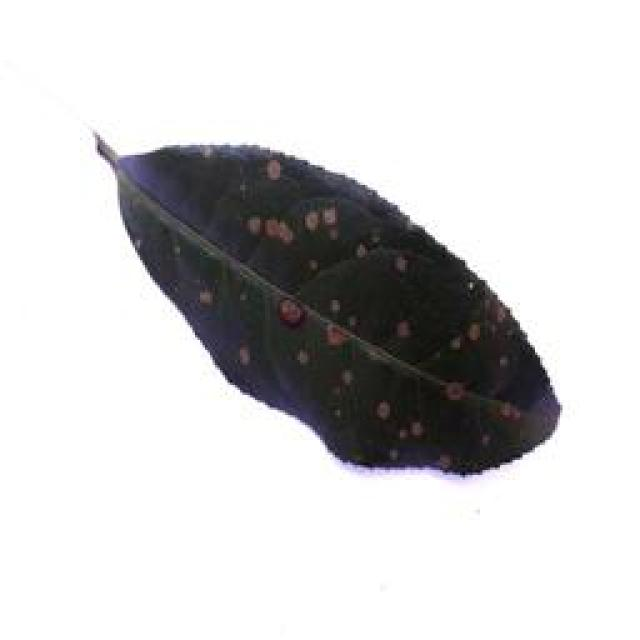Algal Leaf Spot: (89, 133, 557, 491)
